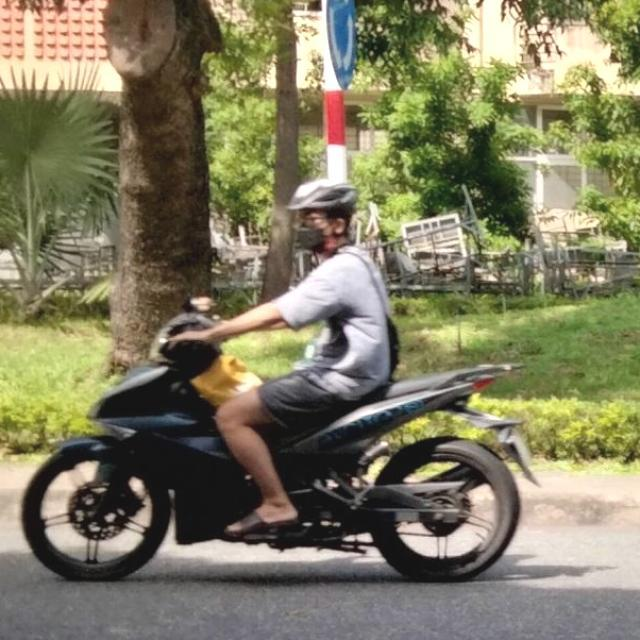Helmet: (293, 178, 358, 252)
